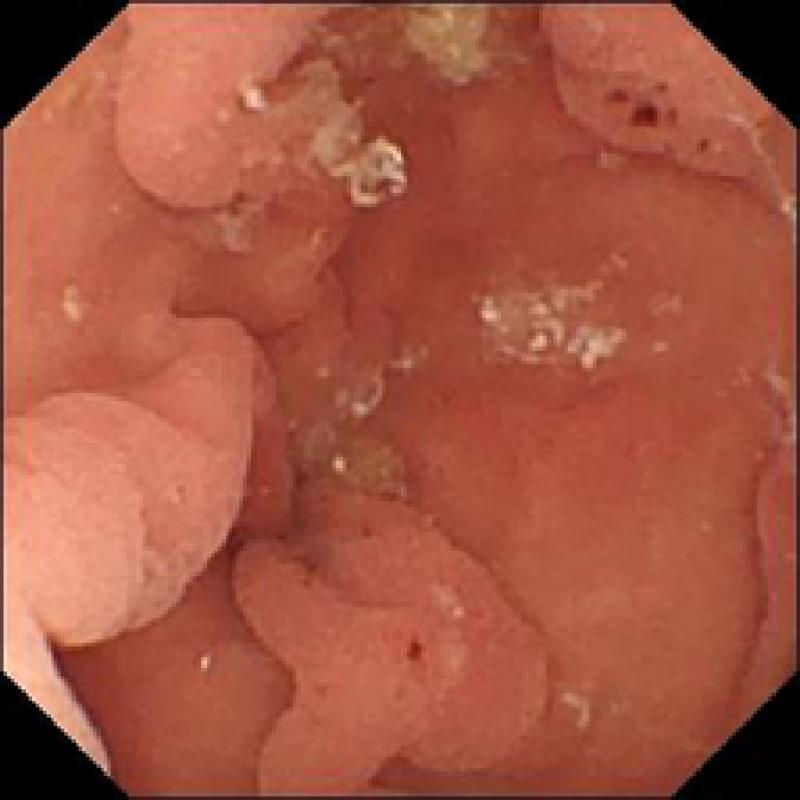bleeding: (607, 82, 707, 154), (399, 627, 432, 675)
